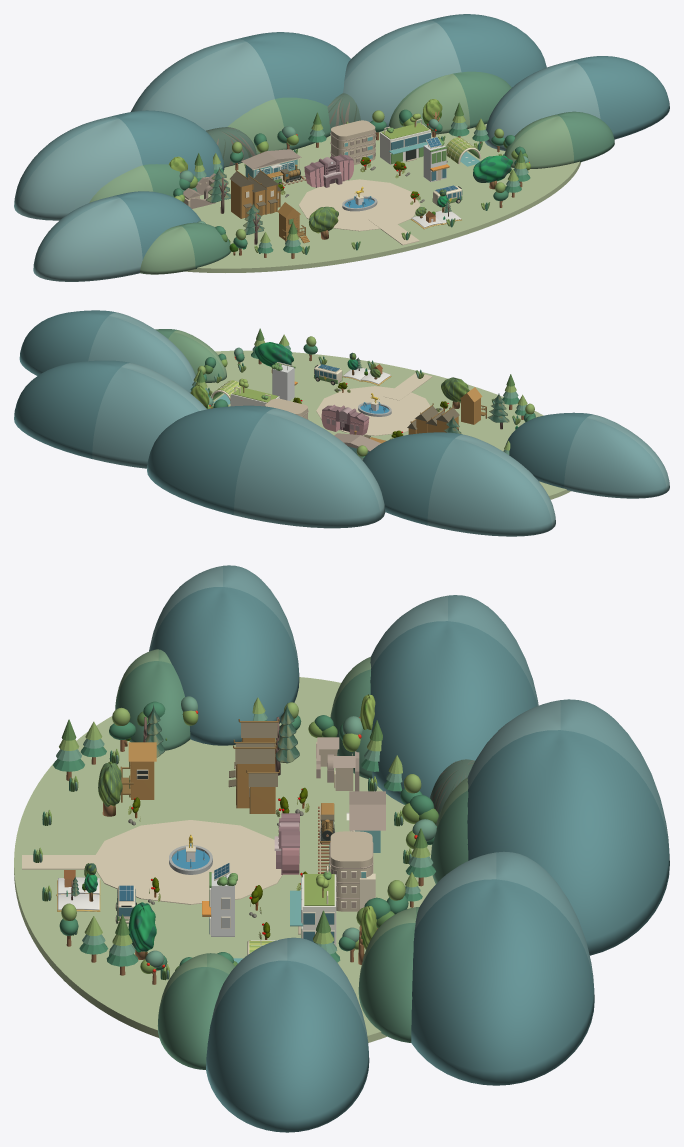
File: chiayi-v7.glb
3 renders of one model, top to bottom at view 1: azimuth 30°, elevation 25°; view 2: azimuth 150°, elevation 25°; view 3: azimuth 270°, elevation 25°, orthographic. The views are drawn at different scales.
Visible parts, largest first — view 1: Town ground ellipse, hill_teal.002, hill_teal.001, hill_teal.003, hill_teal.005, hill_teal.004, hill_green.005, hill_green.003, Drawing dance plaza, hill_green.004, hill_green.002, hill_green.001 (+15 smaller); view 2: hill_teal.002, hill_teal.001, hill_teal.003, hill_teal.004, hill_teal.005, Town ground ellipse, Drawing dance plaza, hill_green.005, 01_traditional_house, 04_solar_townhouse, 05_rooftop_garden_building, 06_wooden_hut (+8 smaller); view 3: Town ground ellipse, hill_teal.003, hill_teal.002, hill_teal.005, hill_teal.001, hill_teal.004, Drawing dance plaza, hill_green.003, hill_green.005, hill_green.004, 01_traditional_house, 07_curved_apartment (+15 smaller).
Part boxes in pixels (x1,y1,x2,y2): Town ground ellipse: (185, 124, 580, 272); hill_teal.002: (131, 32, 350, 130); hill_teal.001: (14, 110, 224, 220); hill_teal.003: (343, 14, 546, 129); hill_teal.005: (485, 56, 669, 150); hill_teal.004: (33, 191, 201, 281); hill_green.005: (504, 111, 614, 168); hill_green.003: (388, 71, 511, 134); Drawing dance plaza: (298, 179, 420, 231); hill_green.004: (140, 222, 230, 274); hill_green.002: (227, 97, 330, 154); hill_green.001: (89, 164, 197, 202); hill_teal.002: (147, 405, 385, 528); hill_teal.001: (362, 432, 555, 536); hill_teal.003: (14, 360, 206, 468); hill_teal.004: (506, 412, 669, 498); hill_teal.005: (19, 310, 195, 392); Town ground ellipse: (206, 350, 570, 499); Drawing dance plaza: (316, 386, 430, 435); hill_green.005: (155, 329, 226, 382); 01_traditional_house: (407, 403, 459, 434); 04_solar_townhouse: (271, 362, 297, 400); 05_rooftop_garden_building: (230, 378, 279, 406); 06_wooden_hut: (460, 387, 486, 424); Town ground ellipse: (14, 677, 435, 1042); hill_teal.003: (411, 851, 594, 1085); hill_teal.002: (467, 699, 669, 955); hill_teal.005: (206, 937, 369, 1132); hill_teal.001: (370, 595, 538, 804); hill_teal.004: (149, 565, 299, 745); Drawing dance plaza: (96, 820, 282, 904); hill_green.003: (358, 907, 419, 1042); hill_green.005: (157, 953, 235, 1069); hill_green.004: (115, 649, 190, 750); 01_traditional_house: (228, 719, 279, 813); 07_curved_apartment: (329, 831, 375, 911).
Bounding box in the file's own units: 76.3 × 9.6 × 40.8.
Materials: 151 (7 with a texture image).
